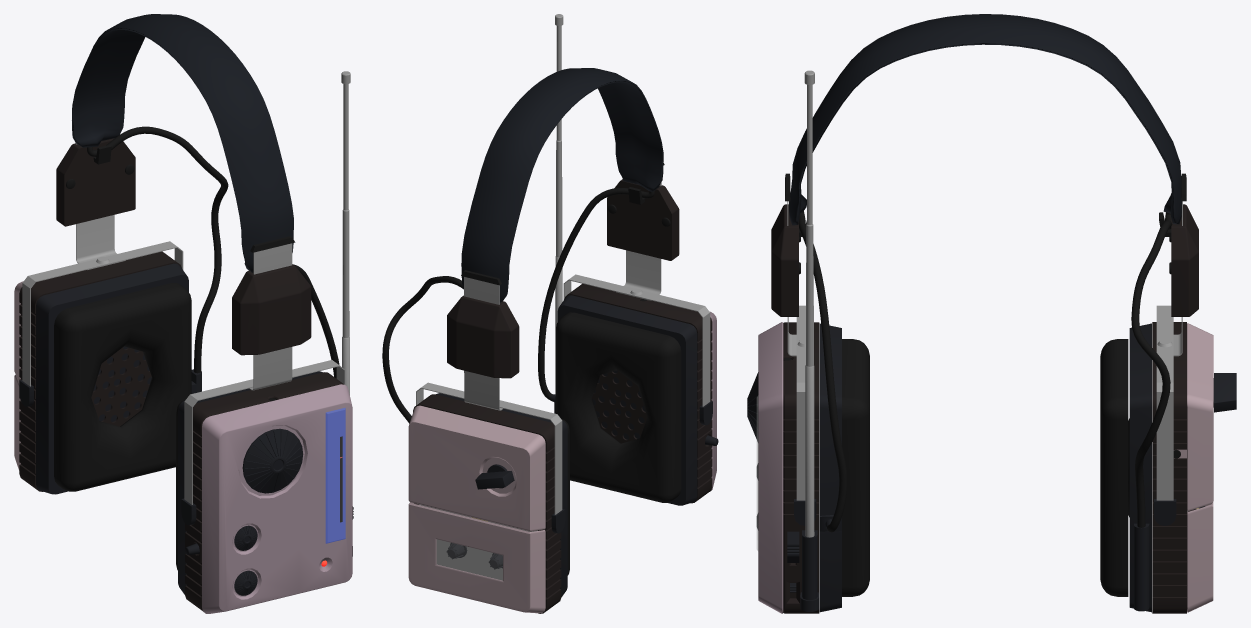
Rendered from headphones.glb.
The picture shows the model from 3 angles, left to right: view 1: azimuth 30°, elevation 25°; view 2: azimuth 150°, elevation 25°; view 3: azimuth 270°, elevation 25°; orthographic projection. The views are drawn at different scales.
Visible parts, largest first — view 1: Cube.013, Cube.007, Arc, Cube.006, Cube.017, Cube.009, Cube.004, Cube.021, Plane, Cylinder.001, Circle.003, Cube (+10 smaller); view 2: Cube.007, Arc, Cube.016, Cube.015, Cube.006, Cube.014, Cube.021, Cube.004, Cube.009, Plane, Circle.003, BezierCurve.001 (+9 smaller); view 3: Cube.007, Arc, Cube.013, Cube.021, Cube.006, Cube.009, Cube.014, Cube.016, Cube.004, Cube.017, BezierCurve, Cube.015 (+8 smaller).
Part boxes in pixels (<box>): Cube.013: <box>202,384,352,613</box>; Cube.007: <box>54,283,191,570</box>; Arc: <box>72,14,293,272</box>; Cube.006: <box>56,138,311,355</box>; Cube.017: <box>36,263,188,494</box>; Cube.009: <box>185,372,343,610</box>; Cube.004: <box>22,241,345,504</box>; Cube.021: <box>19,251,181,491</box>; Plane: <box>75,143,292,390</box>; Cylinder.001: <box>242,428,303,493</box>; Circle.003: <box>91,347,151,426</box>; Cube: <box>325,407,345,543</box>; Cube.007: <box>556,312,681,575</box>; Arc: <box>461,68,663,302</box>; Cube.016: <box>408,405,545,531</box>; Cube.015: <box>408,502,545,613</box>; Cube.006: <box>447,179,679,378</box>; Cube.014: <box>557,295,697,505</box>; Cube.021: <box>413,394,561,613</box>; Cube.004: <box>416,274,710,514</box>; Cube.009: <box>564,284,712,503</box>; Plane: <box>464,182,661,410</box>; Circle.003: <box>592,371,647,443</box>; BezierCurve.001: <box>538,188,654,400</box>; Cube.007: <box>842,339,1129,596</box>; Arc: <box>789,14,1181,225</box>; Cube.013: <box>758,322,783,613</box>; Cube.021: <box>1152,322,1186,613</box>; Cube.006: <box>771,204,1198,316</box>; Cube.009: <box>783,322,819,613</box>; Cube.014: <box>819,323,841,612</box>; Cube.016: <box>1174,323,1213,511</box>; Cube.004: <box>796,305,1173,500</box>; Cube.017: <box>1129,323,1151,612</box>; BezierCurve: <box>1131,212,1172,527</box>; Cube.015: <box>1187,502,1213,612</box>.
Bounding box in the file's own units: 1.91 × 4.54 × 3.64.
